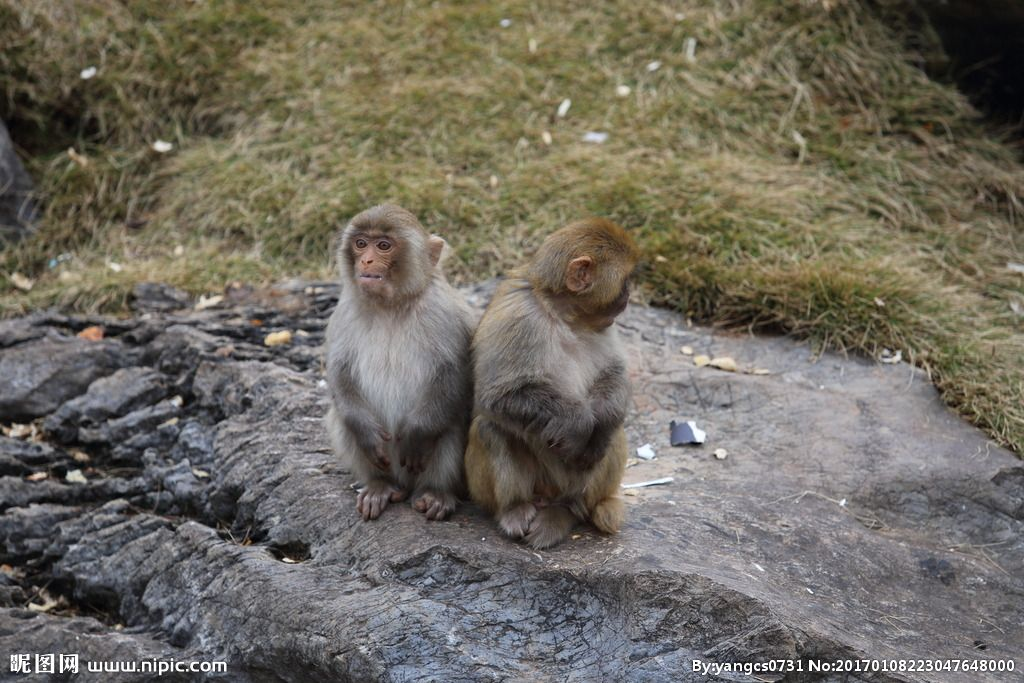monkey: (477, 196, 640, 543), (309, 191, 466, 520)
